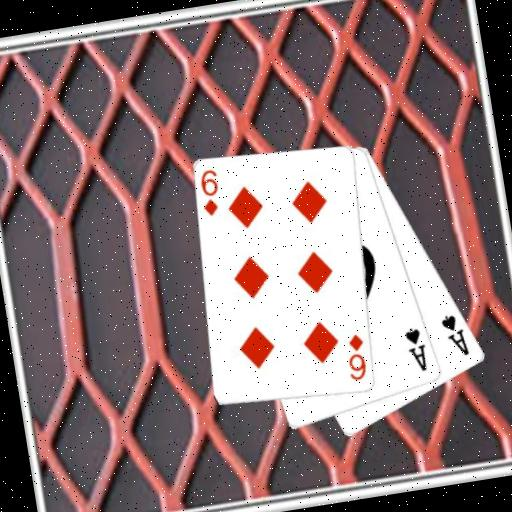6D: (340, 330, 371, 383), (195, 166, 225, 219)
AS: (437, 310, 472, 361), (401, 323, 431, 375)
